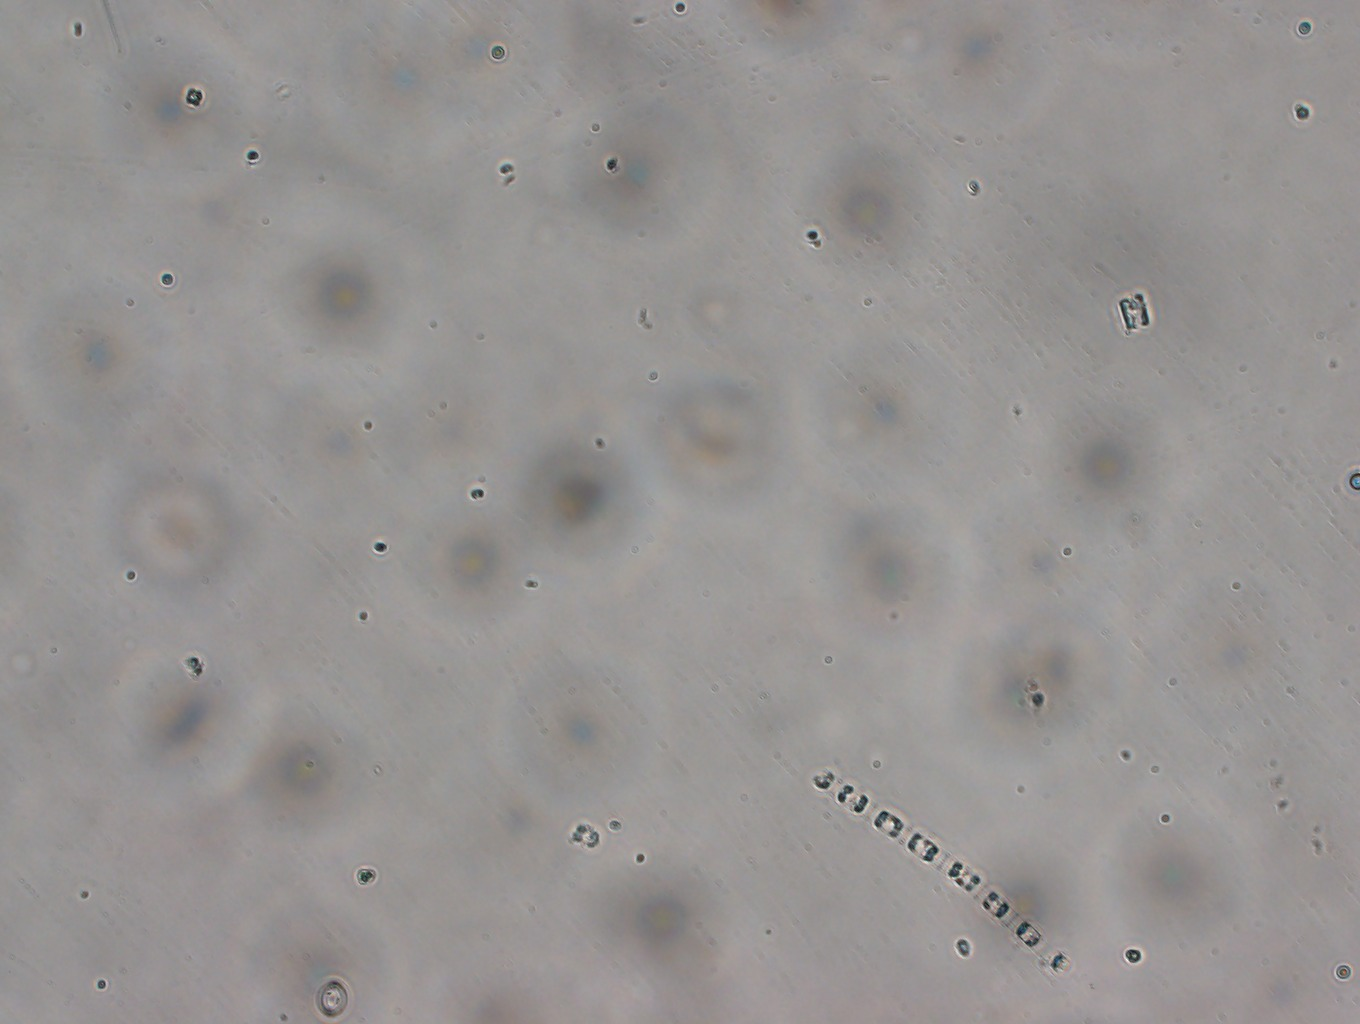skeletonema: (803, 758, 1078, 985)
